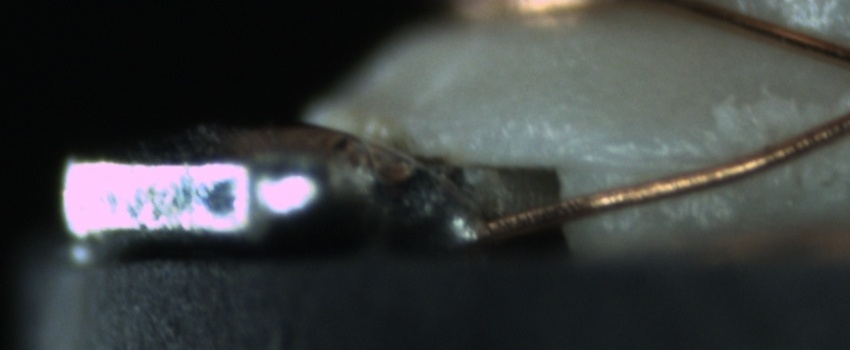DL: (578, 130, 715, 189)
